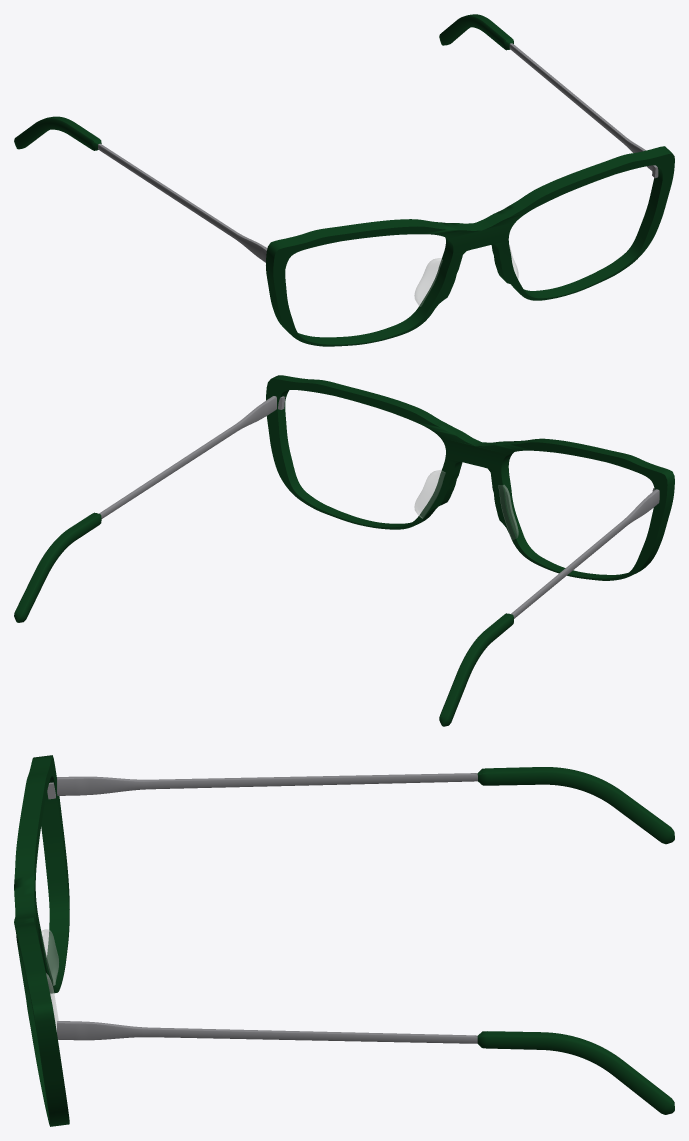
Rendered from trendi-jade-3d.glb.
3 views of the same model, one above another, from view 1: azimuth 30°, elevation 25°; view 2: azimuth 150°, elevation 25°; view 3: azimuth 270°, elevation 25° (orthographic). The views are drawn at different scales.
Parts seen in each view (by area): view 1: frente, varilla_der, varilla_izq, plaqueta_der; view 2: frente, varilla_izq, varilla_der, plaqueta_izq, plaqueta_der; view 3: frente, varilla_izq, varilla_der, plaqueta_der.
Boxes of the visible parts, x1=… form: frente: x1=266, y1=146, x2=674, y2=346; varilla_der: x1=14, y1=116, x2=267, y2=262; varilla_izq: x1=439, y1=14, x2=652, y2=170; plaqueta_der: x1=414, y1=258, x2=442, y2=306; frente: x1=266, y1=375, x2=674, y2=580; varilla_izq: x1=14, y1=396, x2=276, y2=622; varilla_der: x1=439, y1=489, x2=659, y2=726; plaqueta_izq: x1=414, y1=469, x2=445, y2=518; plaqueta_der: x1=498, y1=485, x2=518, y2=539; frente: x1=14, y1=755, x2=69, y2=1126; varilla_izq: x1=57, y1=1021, x2=674, y2=1114; varilla_der: x1=57, y1=767, x2=674, y2=844; plaqueta_der: x1=41, y1=929, x2=58, y2=985.
Size of the model in its own units: 0.1429 by 0.0396 by 0.1444.
